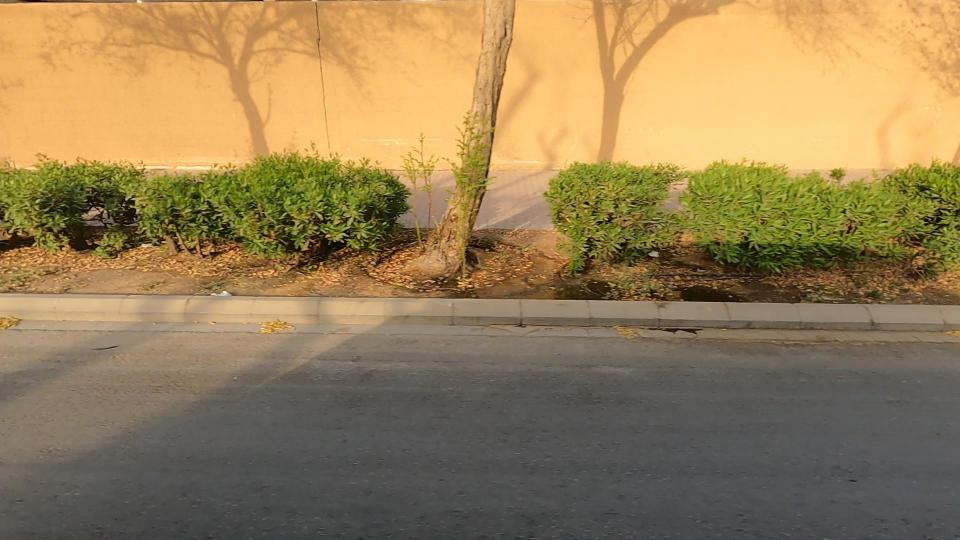GARBAGE: (183, 270, 261, 318)
